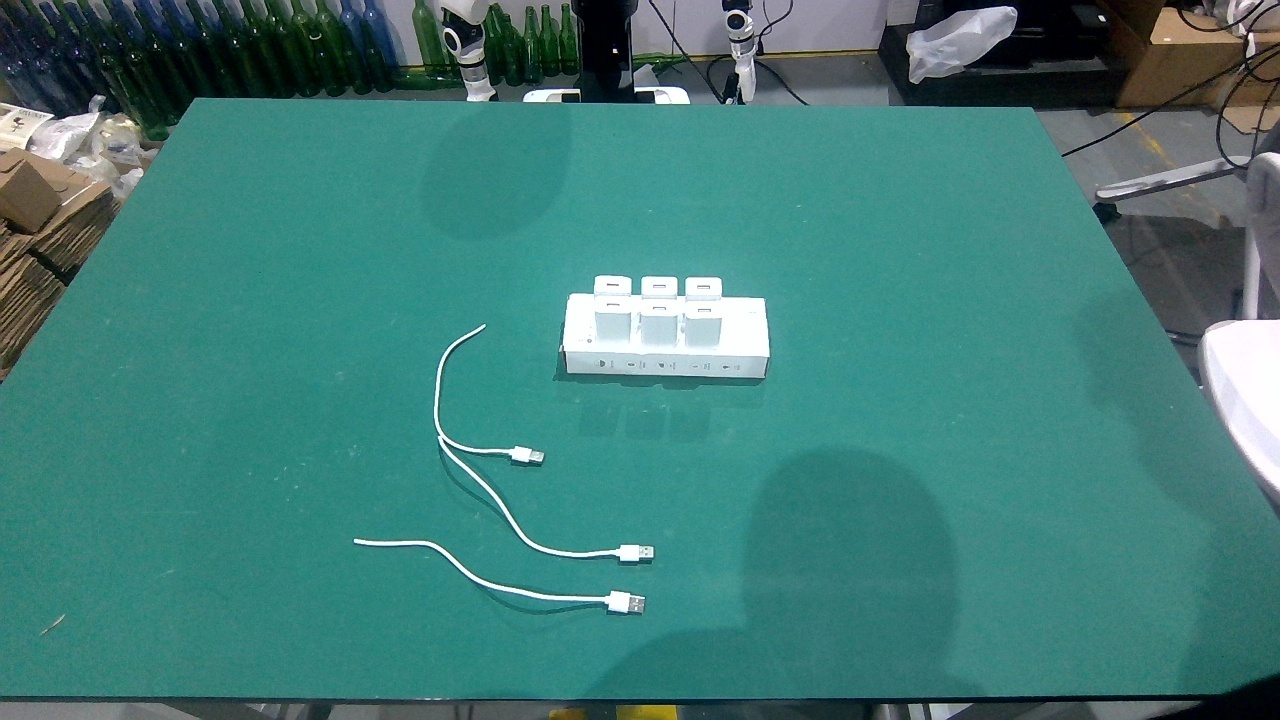usb_a_plug: (592, 588, 647, 615), (496, 441, 546, 467), (602, 544, 656, 562)
